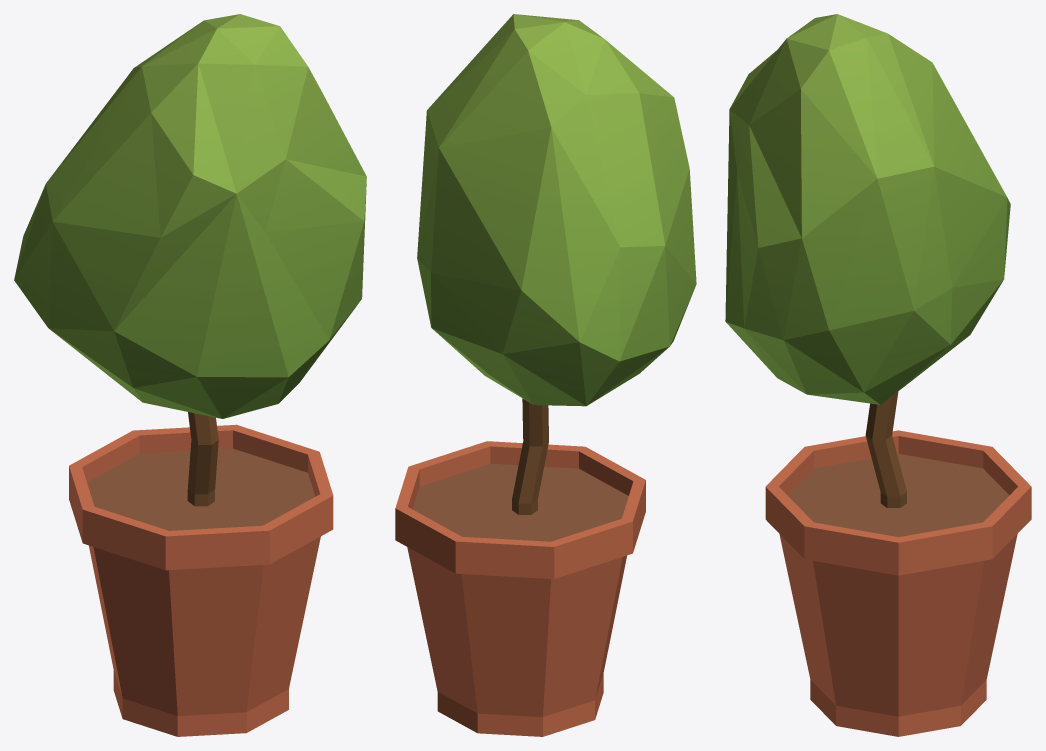
Rendered from Pot_02.fbx.
The picture shows the model from 3 angles, left to right: view 1: azimuth 30°, elevation 25°; view 2: azimuth 150°, elevation 25°; view 3: azimuth 270°, elevation 25°; orthographic projection. The views are drawn at different scales.
Parts seen in each view (by area): view 1: Pot_02; view 2: Pot_02; view 3: Pot_02.
Part boxes in pixels (x1,y1,x2,y2): Pot_02: [14, 14, 366, 736]; Pot_02: [395, 14, 696, 736]; Pot_02: [725, 14, 1031, 736].
Size of the model in its own units: 52.68 by 126 by 51.72.
